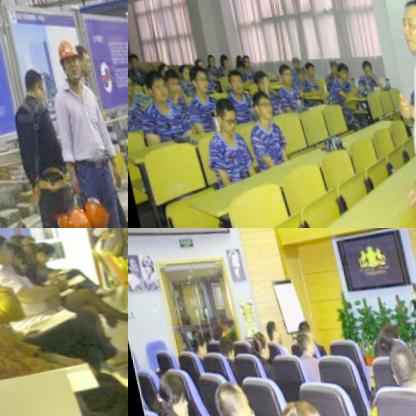head: (201, 377, 251, 416), (146, 369, 185, 416), (378, 338, 416, 386), (260, 392, 327, 416), (392, 0, 416, 55), (22, 234, 58, 265), (139, 69, 167, 106), (208, 97, 234, 133), (364, 324, 390, 357), (241, 326, 266, 360), (245, 86, 269, 120), (287, 327, 310, 356), (220, 66, 241, 95), (183, 65, 205, 92), (257, 316, 278, 344), (247, 68, 267, 94), (159, 67, 179, 93), (210, 330, 229, 357), (288, 317, 307, 342), (273, 60, 291, 86), (0, 229, 12, 268), (183, 330, 201, 355), (330, 58, 348, 82), (172, 61, 187, 82), (153, 59, 168, 80), (211, 315, 226, 336), (186, 53, 203, 71), (322, 56, 338, 75), (354, 55, 369, 75), (289, 62, 304, 82), (298, 59, 312, 77), (236, 52, 249, 71), (199, 49, 213, 66), (285, 52, 298, 69), (229, 57, 242, 74), (213, 50, 225, 67), (128, 49, 138, 69)
helmet: (50, 34, 81, 87)
